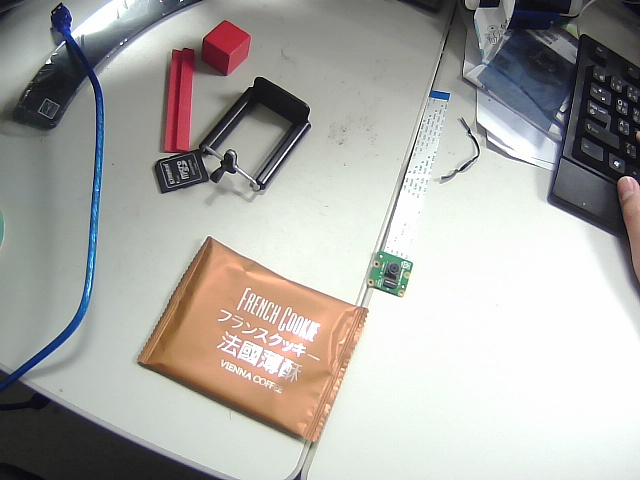frenchcookie: (129, 233, 378, 452)
